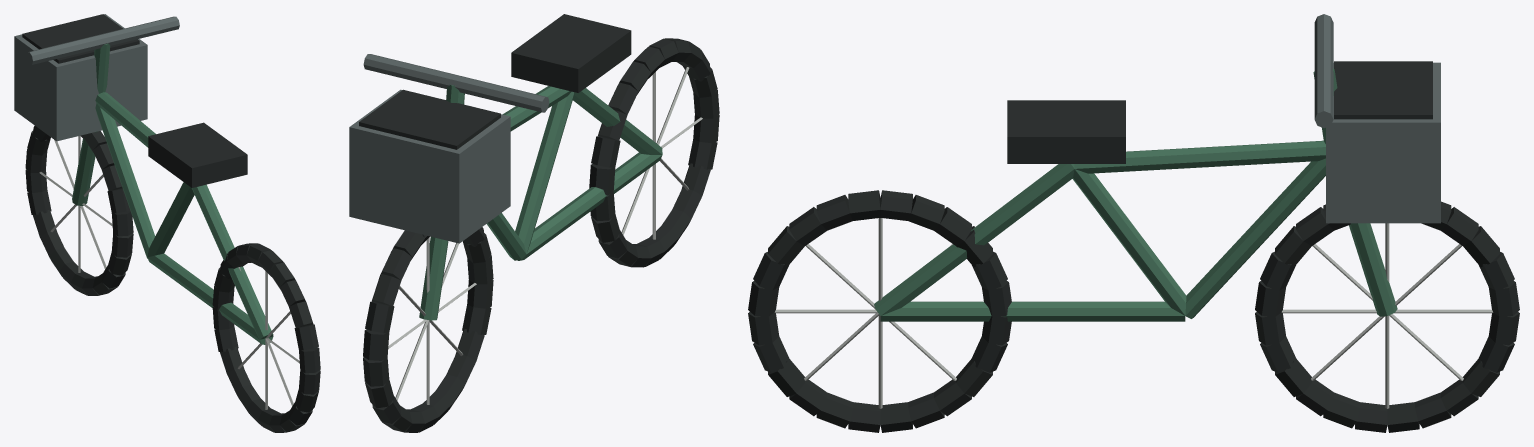
Rendered from bicycle_plain.glb.
3 renders of one model, left to right at view 1: azimuth 30°, elevation 25°; view 2: azimuth 150°, elevation 25°; view 3: azimuth 270°, elevation 25°, orthographic. The views are drawn at different scales.
Parts seen in each view (by area): view 1: bicycle_plain; view 2: bicycle_plain; view 3: bicycle_plain.
Part boxes in pixels (x1=…): bicycle_plain: x1=14, y1=14, x2=320, y2=432; bicycle_plain: x1=349, y1=14, x2=719, y2=432; bicycle_plain: x1=748, y1=14, x2=1519, y2=432.
Size of the model in its own units: 0.58 by 1.02 by 1.95.
